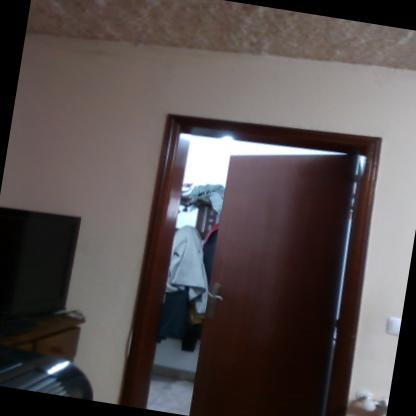semi: (99, 79, 394, 415)
